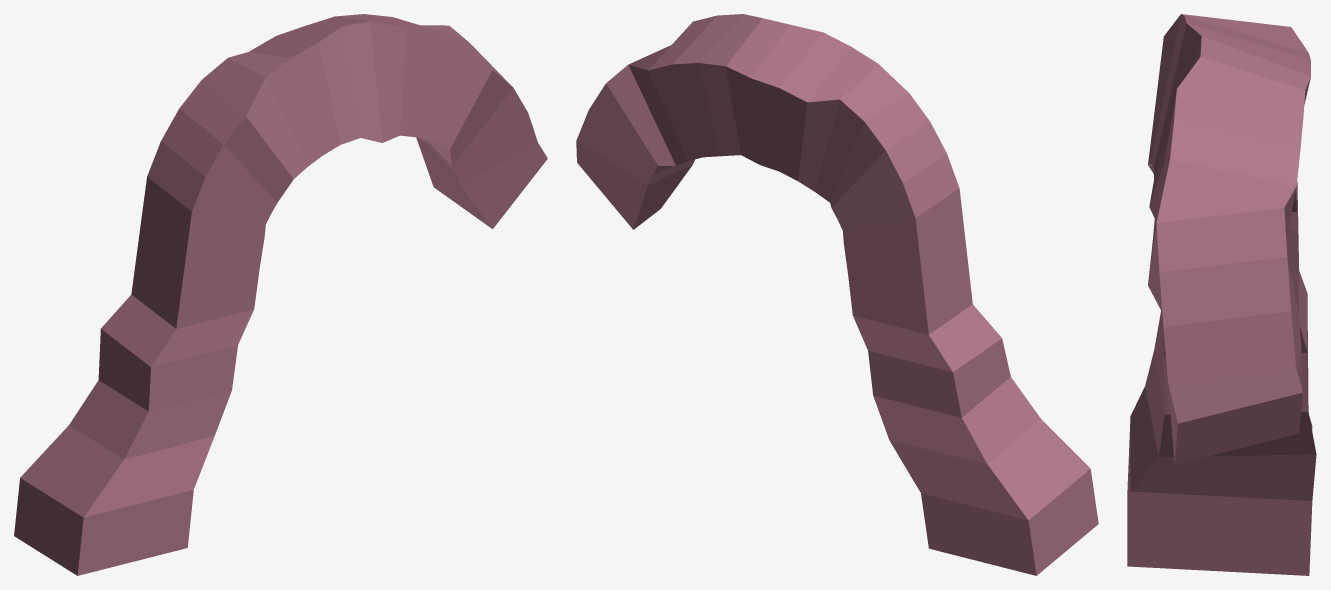
The model's file is Arch_04.fbx.
3 renders of one model, left to right at view 1: azimuth 30°, elevation 25°; view 2: azimuth 150°, elevation 25°; view 3: azimuth 270°, elevation 25°, orthographic. The views are drawn at different scales.
Visible parts, largest first — view 1: Arch_04; view 2: Arch_04; view 3: Arch_04.
Boxes of the visible parts, <box> form: Arch_04: <box>14,14,547,575</box>; Arch_04: <box>576,14,1098,575</box>; Arch_04: <box>1127,14,1316,575</box>.
Size of the model in its own units: 1682 by 1534 by 394.
